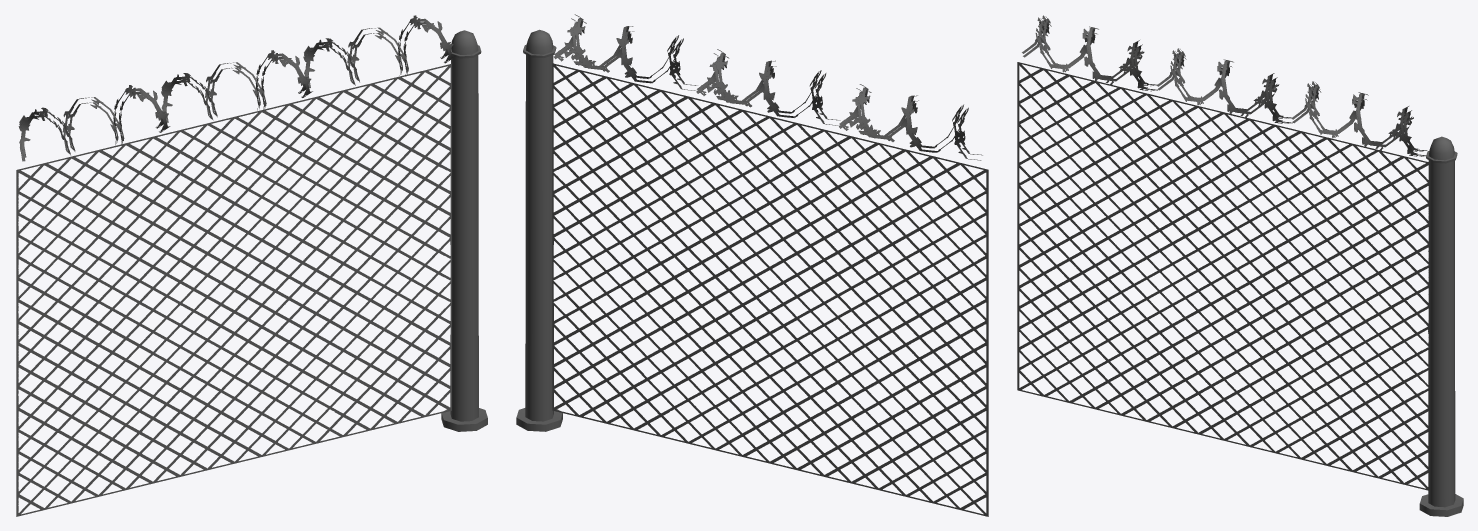
Rendered from fenceall.fbx.
3 renders of one model, left to right at view 1: azimuth 30°, elevation 25°; view 2: azimuth 150°, elevation 25°; view 3: azimuth 330°, elevation 25°, orthographic. The views are drawn at different scales.
Visible parts, largest first — view 1: fenceall; view 2: fenceall; view 3: fenceall.
Part boxes in pixels (x1,y1,x2,y2): fenceall: (16,15,487,516); fenceall: (516,14,988,516); fenceall: (1017,15,1463,516).
Bounding box in the file's own units: 568 × 483 × 66.19.
3 materials, 1 textured.
